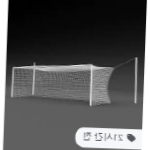goals: (9, 63, 116, 111)
